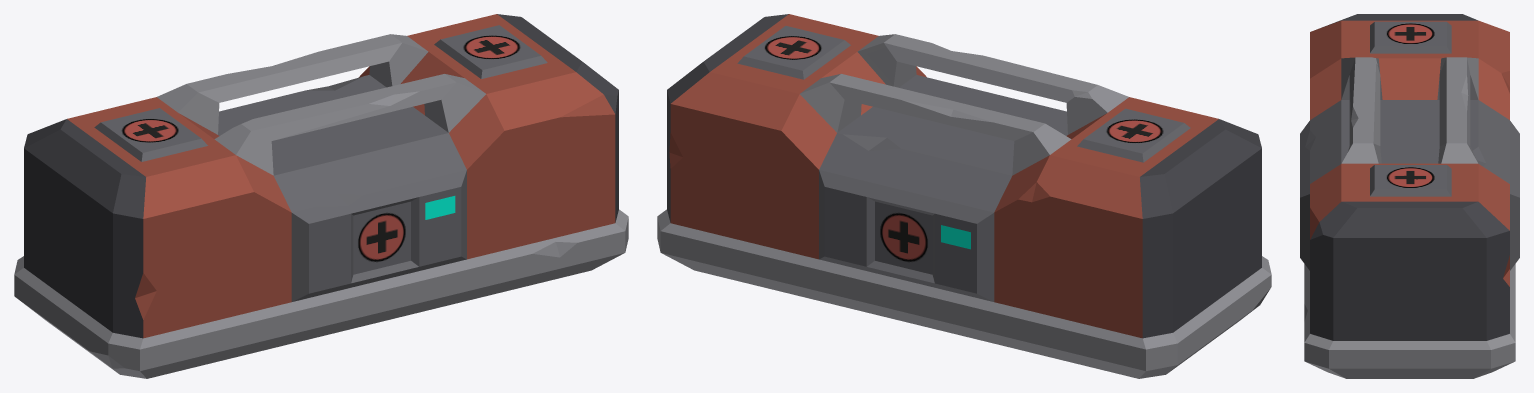
File: health-crate.glb
The picture shows the model from 3 angles, left to right: view 1: azimuth 30°, elevation 25°; view 2: azimuth 150°, elevation 25°; view 3: azimuth 270°, elevation 25°; orthographic projection. The views are drawn at different scales.
Visible parts, largest first — view 1: health-crate-col; view 2: health-crate-col; view 3: health-crate-col.
Boxes of the visible parts, left/top/right/bottom form: health-crate-col: left=14, top=14, right=628, bottom=378; health-crate-col: left=657, top=14, right=1271, bottom=378; health-crate-col: left=1300, top=14, right=1519, bottom=378.
Size of the model in its own units: 1.33 by 0.5038 by 0.5629.
Materials: 1 (1 with a texture image).
